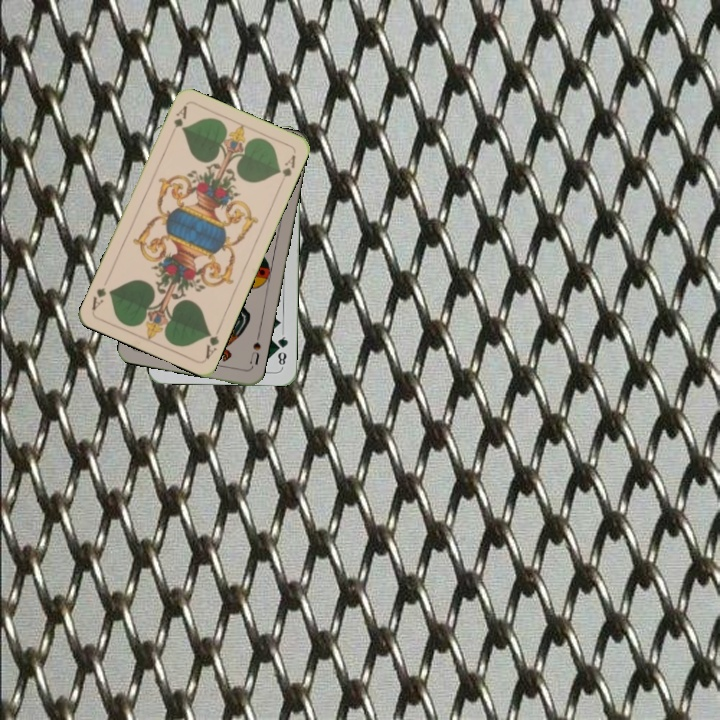G8: (273, 329, 291, 370)
GA: (166, 102, 190, 140), (201, 322, 223, 362)
SU: (246, 330, 263, 367)
